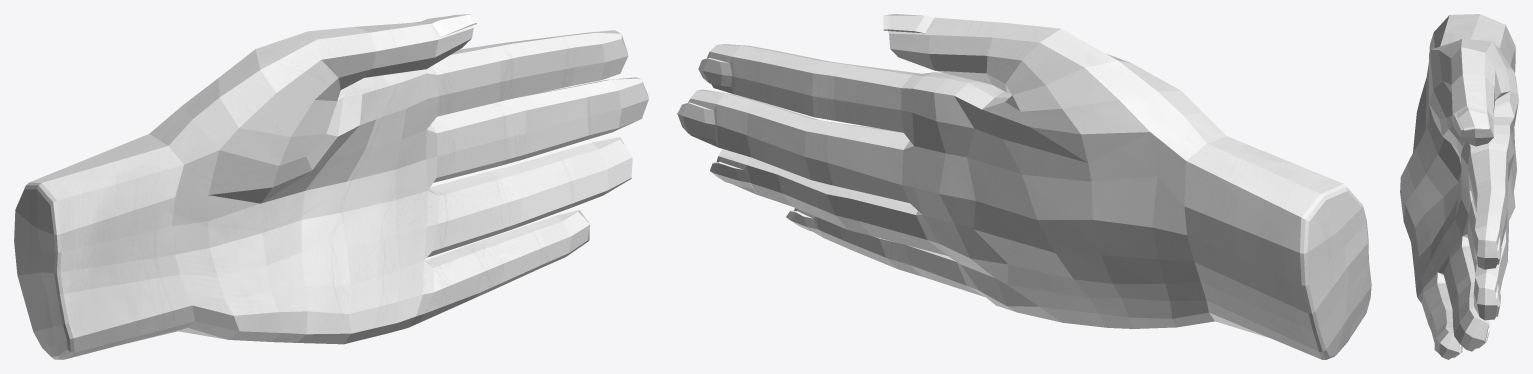
Rendered from l_hard_paper.glb.
3 views of the same model, side by side, from view 1: azimuth 30°, elevation 25°; view 2: azimuth 150°, elevation 25°; view 3: azimuth 270°, elevation 25° (orthographic). The views are drawn at different scales.
Visible parts, largest first — view 1: L_Hard_Paper; view 2: L_Hard_Paper; view 3: L_Hard_Paper.
Boxes of the visible parts, x1,y1,x2,y2 form: L_Hard_Paper: [14, 14, 648, 359]; L_Hard_Paper: [677, 14, 1371, 359]; L_Hard_Paper: [1400, 14, 1518, 359].
Bounding box in the file's own units: 0.2525 × 0.1125 × 0.0511.
1 material, 1 textured.
